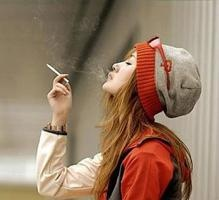person without safety: (98, 35, 190, 200)
